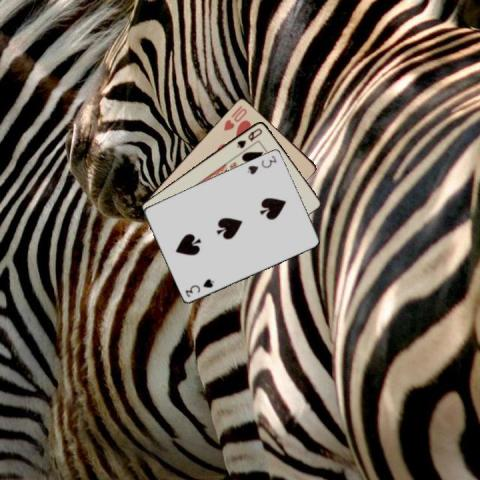10h: (220, 102, 249, 132)
3s: (244, 152, 278, 175), (182, 275, 215, 298)
Qs: (234, 125, 263, 149)
